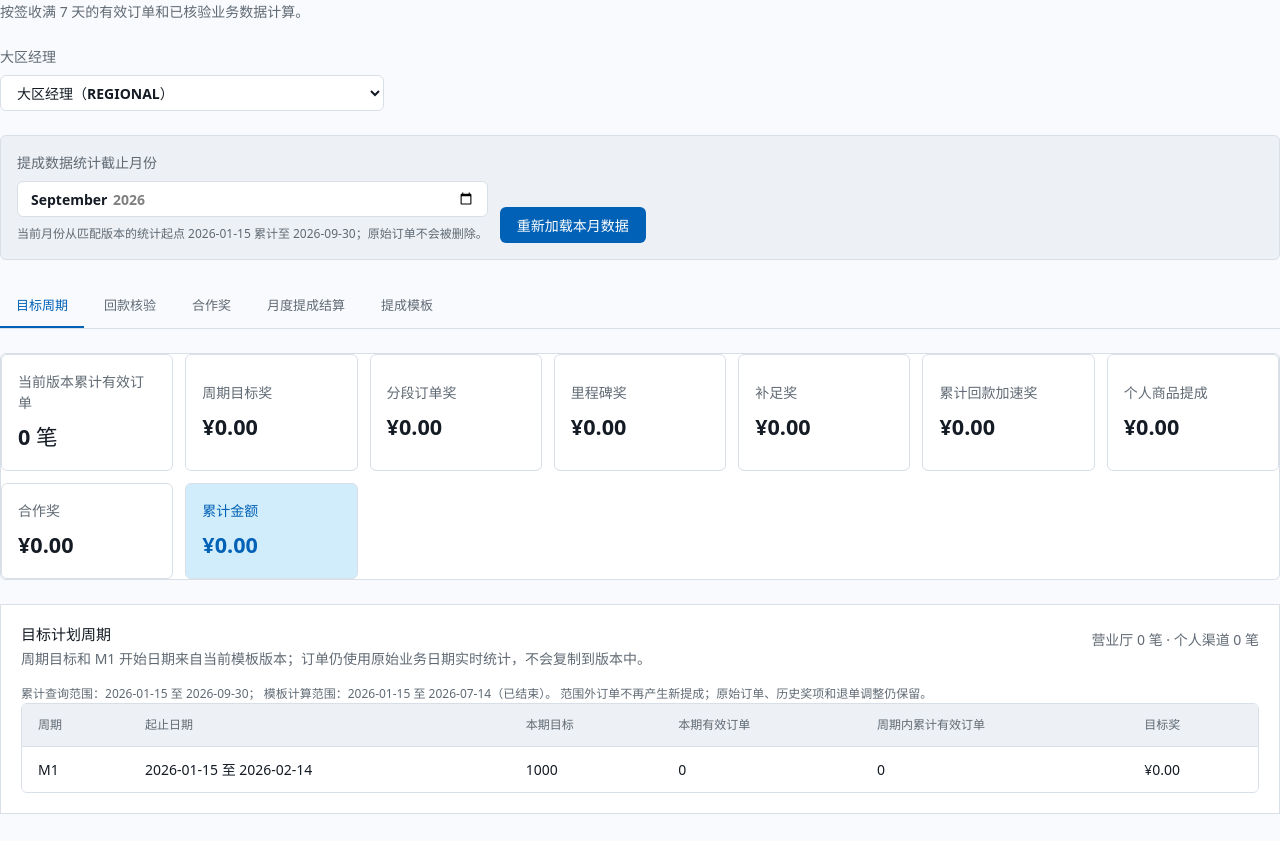
Test case: 大区经理目标周期 › 核验回款后展示已核验状态并保留成功提示
The width and height of the screenshot is (1280, 841).
Click the button "回款核验": (130, 306) x1=88 y1=284 x2=172 y2=328
(page scrolled)
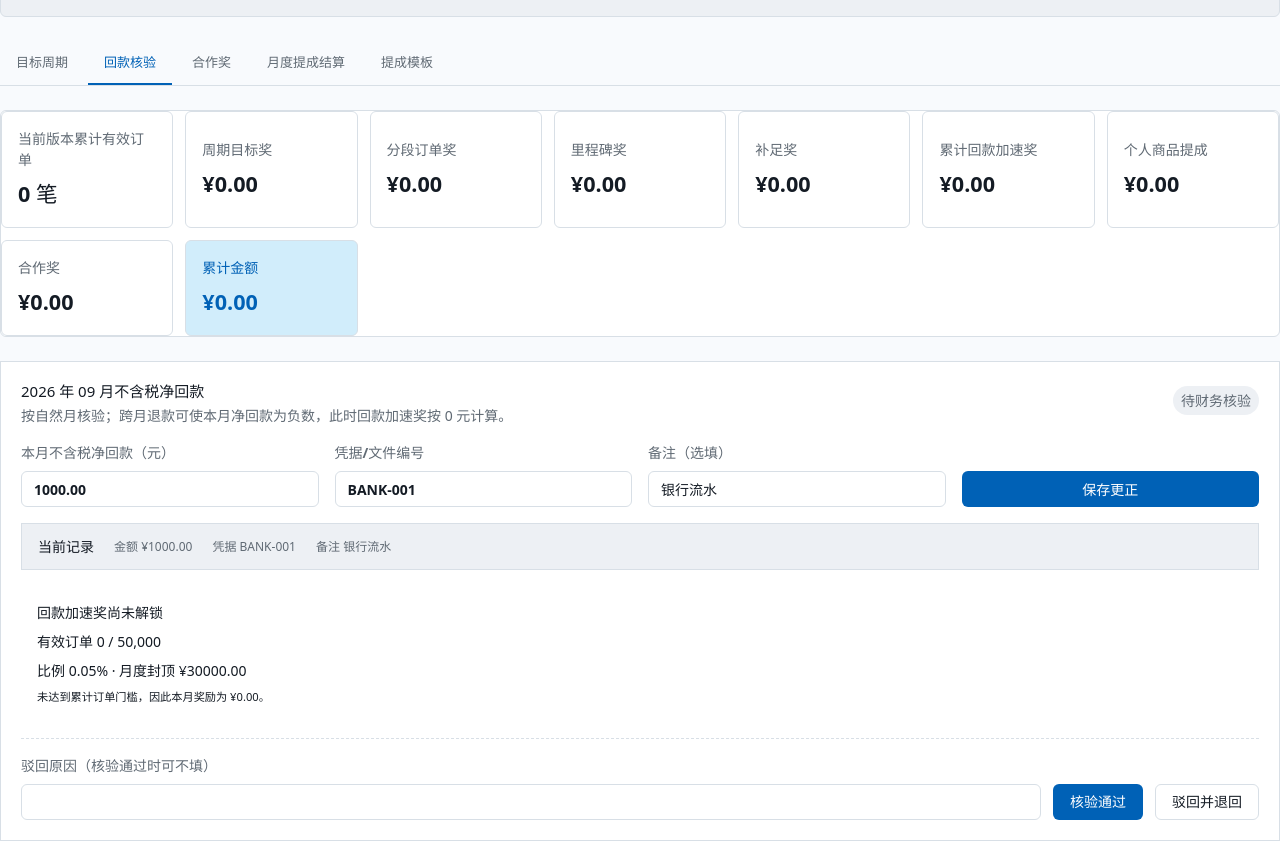
Click the button "核验通过": (1098, 802) x1=1053 y1=784 x2=1143 y2=820
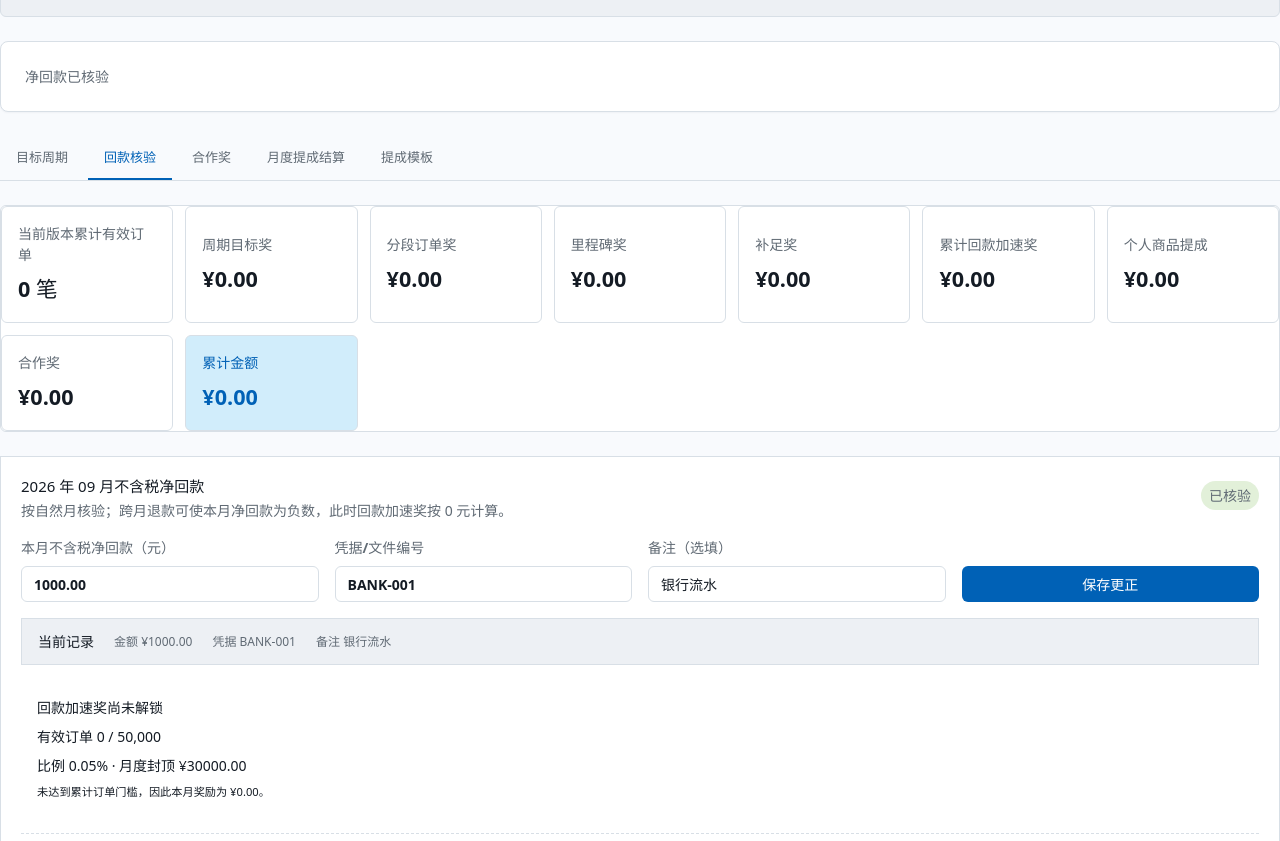
Expected: the text "已核验" is shown, x1=1201 y1=481 x2=1259 y2=510
Expected: the message reads "净回款已核验", x1=25 y1=67 x2=109 y2=86
Click the button "保存更正": (1110, 584) x1=962 y1=566 x2=1259 y2=602
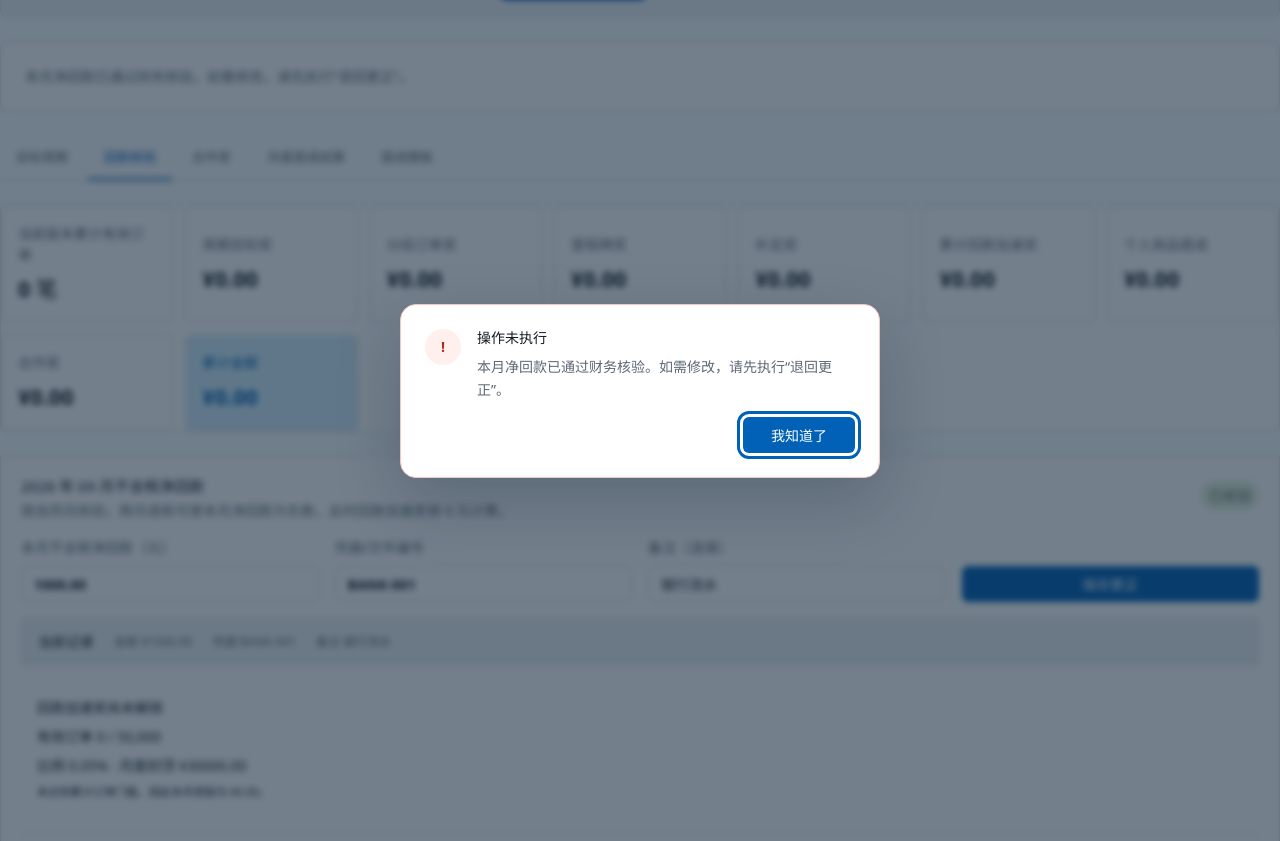
Expected: the dialog shows "请先执行“退回更正”", x1=477 y1=357 x2=832 y2=399
